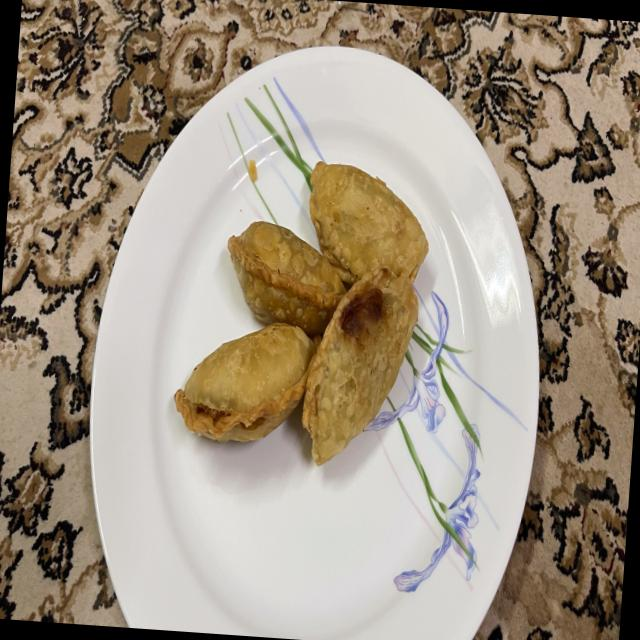karipap: (302, 268, 418, 465), (174, 321, 314, 442), (309, 162, 428, 284), (227, 222, 345, 335)
